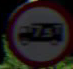Heavy Vehicles: (3, 2, 67, 60)
